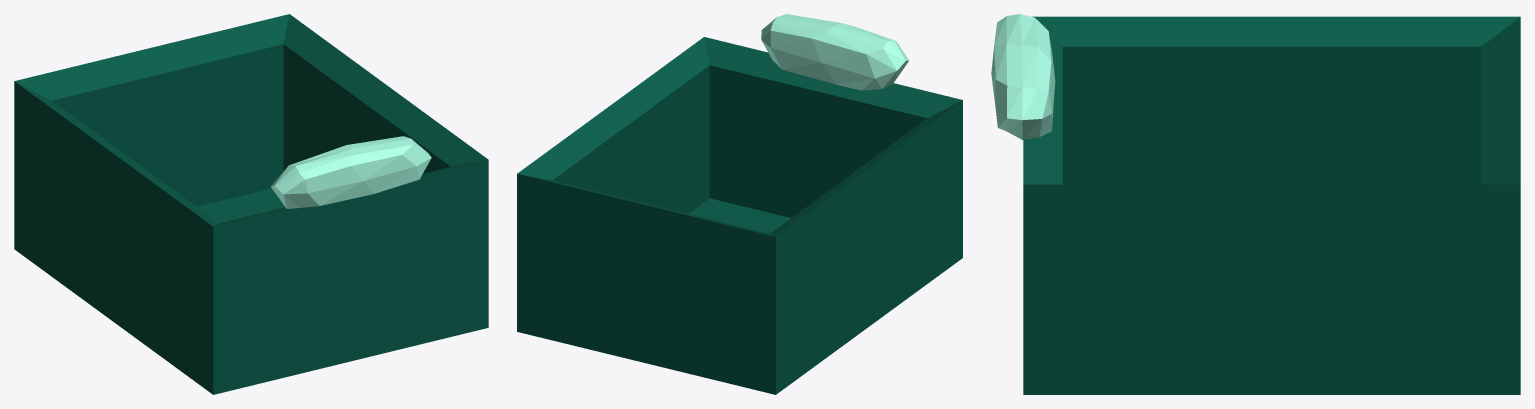
File: Cart.fbx
3 renders of one model, left to right at view 1: azimuth 30°, elevation 25°; view 2: azimuth 150°, elevation 25°; view 3: azimuth 270°, elevation 25°, orthographic. The views are drawn at different scales.
Visible parts, largest first — view 1: Cart, CartHandle; view 2: Cart, CartHandle; view 3: Cart, CartHandle.
Boxes of the visible parts, box(x1,y1,x2,y2) form: Cart: box(14, 14, 488, 394); CartHandle: box(271, 136, 431, 208); Cart: box(517, 37, 962, 394); CartHandle: box(761, 14, 909, 90); Cart: box(1023, 16, 1520, 394); CartHandle: box(991, 14, 1055, 139).
Bounding box in the file's own units: 160 × 118 × 213.
Materials: 2 (2 with a texture image).
